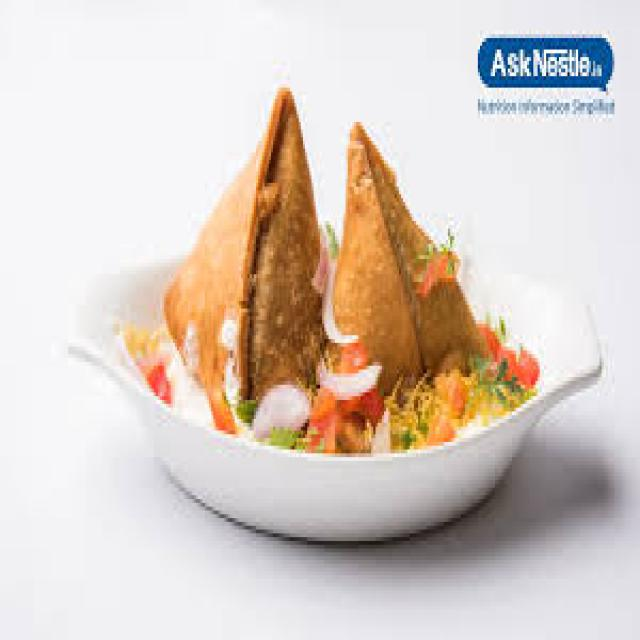SAMOSA: (171, 91, 328, 427), (336, 130, 497, 388)
